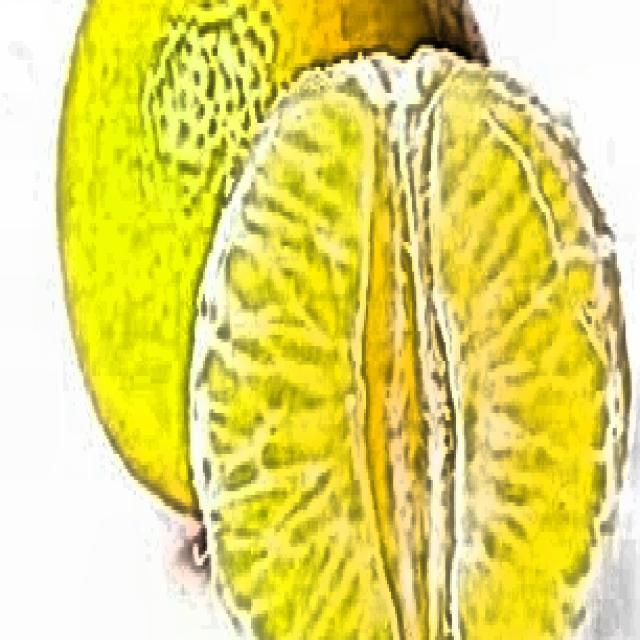Fruit: (25, 7, 640, 640)
